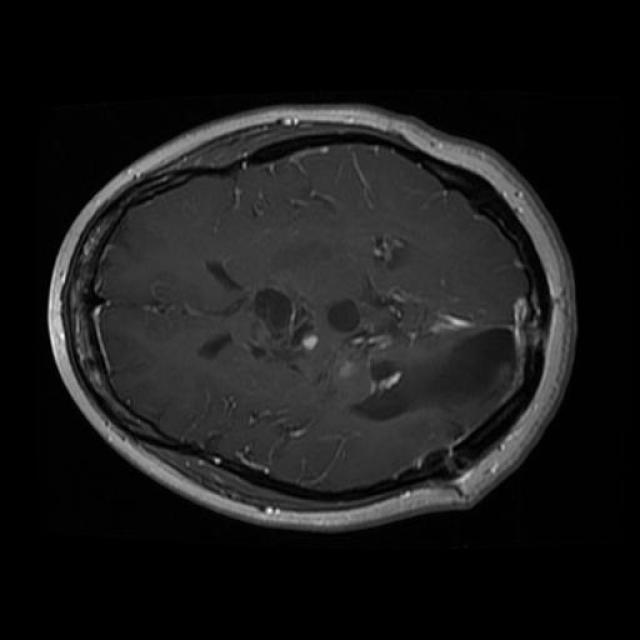Glioma: (351, 325, 517, 436)
